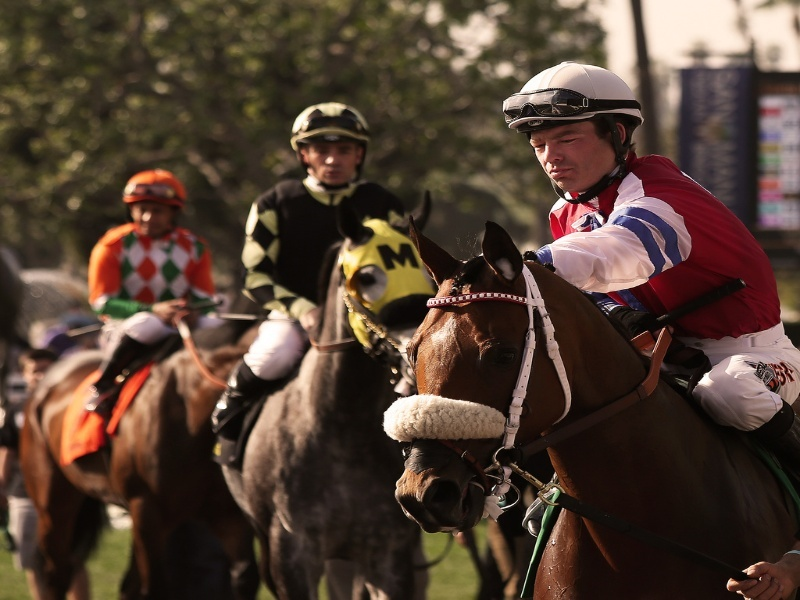Baret: (507, 62, 642, 135)
